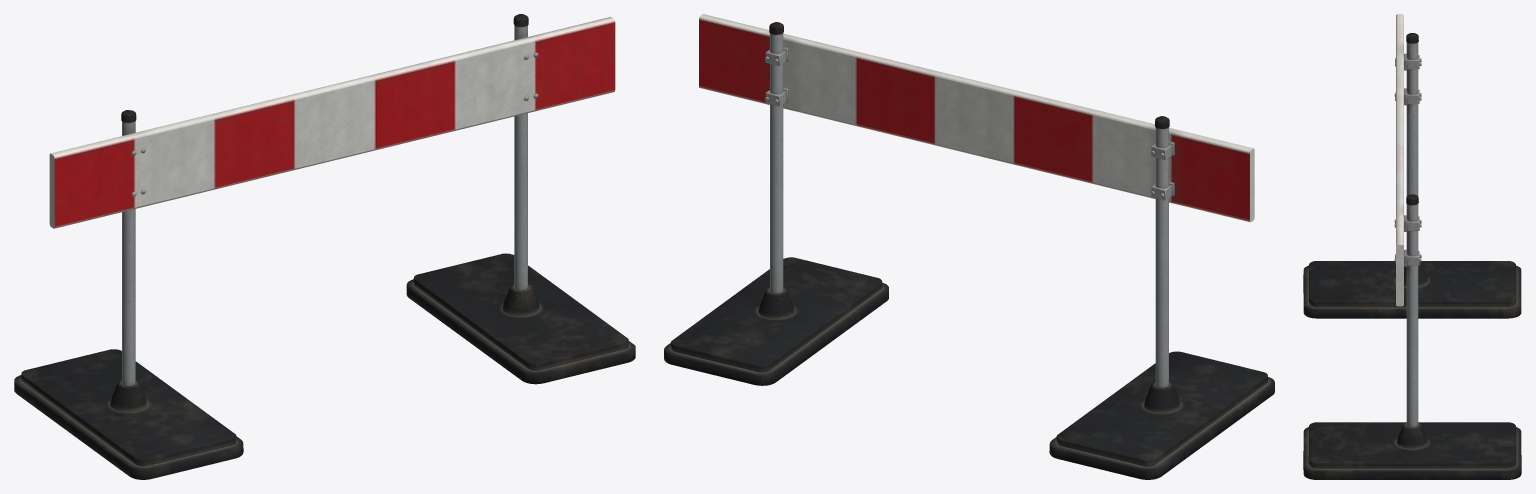
File: road-barrier.glb
3 renders of one model, left to right at view 1: azimuth 30°, elevation 25°; view 2: azimuth 150°, elevation 25°; view 3: azimuth 270°, elevation 25°, orthographic. The views are drawn at different scales.
Parts seen in each view (by area): view 1: road-barrier_body; view 2: road-barrier_body; view 3: road-barrier_body.
Boxes of the visible parts, x1,y1,x2,y2 form: road-barrier_body: (14,14,635,479); road-barrier_body: (664,14,1274,479); road-barrier_body: (1303,14,1521,479).
Bounding box in the file's own units: 2 × 1.06 × 0.7999.
1 material, 1 textured.
